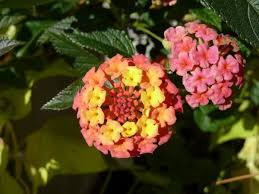lantana_camara: (74, 54, 186, 158), (162, 19, 247, 112)
